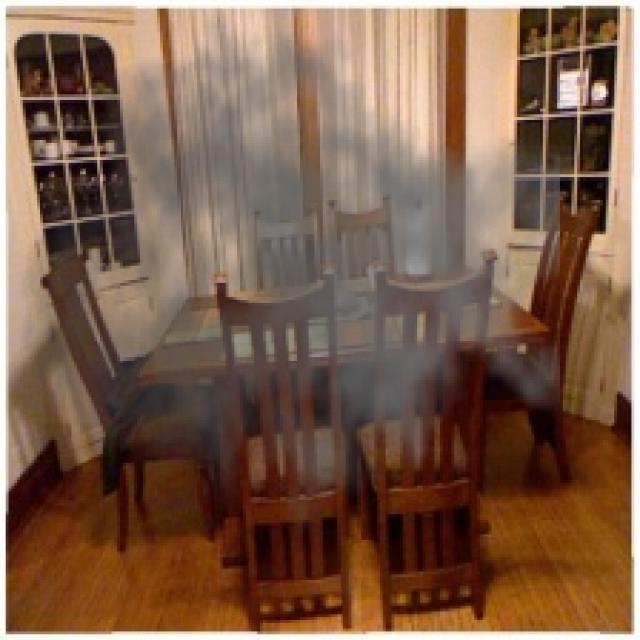smoke: (20, 9, 560, 560)
